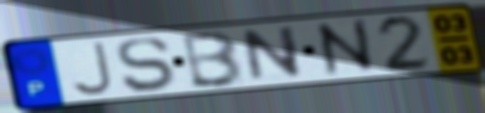2: (376, 14, 432, 73)
B: (181, 28, 247, 89)
J: (68, 40, 116, 98)
N: (311, 16, 381, 80), (240, 24, 306, 84)
S: (113, 35, 176, 95)
